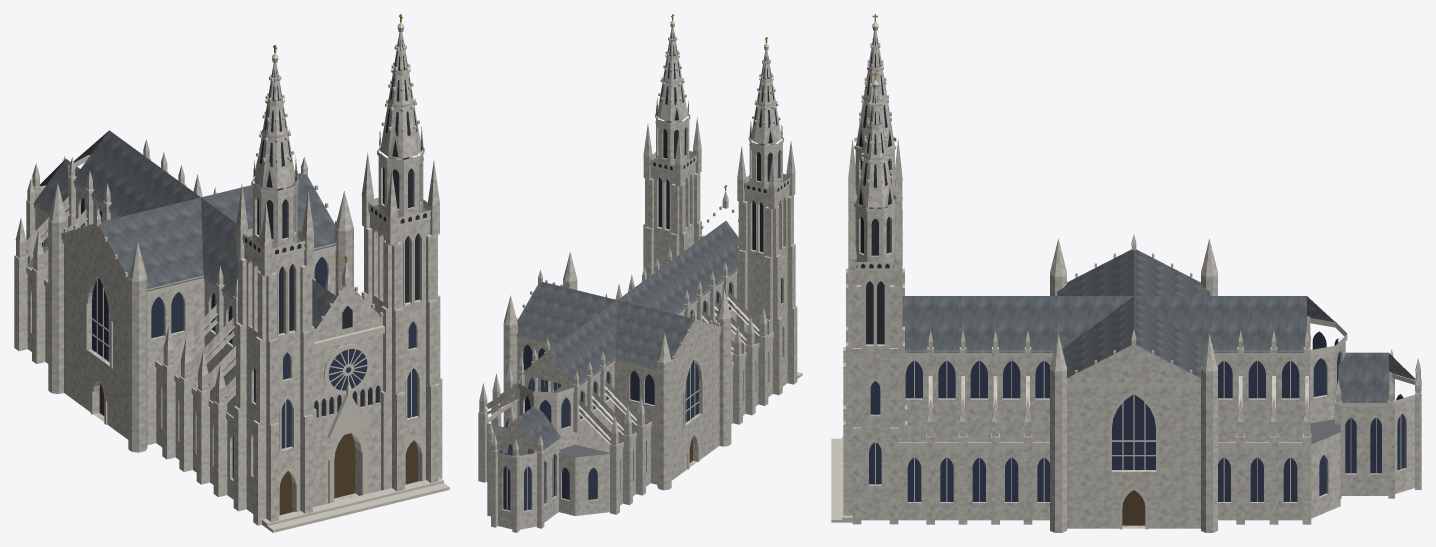
File: st_patricks_cathedral.glb
3 renders of one model, left to right at view 1: azimuth 30°, elevation 25°; view 2: azimuth 150°, elevation 25°; view 3: azimuth 270°, elevation 25°, orthographic. The views are drawn at different scales.
Parts seen in each view (by area): view 1: st_patricks_cathedral; view 2: st_patricks_cathedral; view 3: st_patricks_cathedral.
Part boxes in pixels (left/top/right/bottom): st_patricks_cathedral: left=14, top=14, right=449, bottom=532; st_patricks_cathedral: left=478, top=14, right=802, bottom=532; st_patricks_cathedral: left=831, top=14, right=1421, bottom=532.
Size of the model in its own units: 50.32 by 101 by 123.
Materials: 3 (3 with a texture image).
